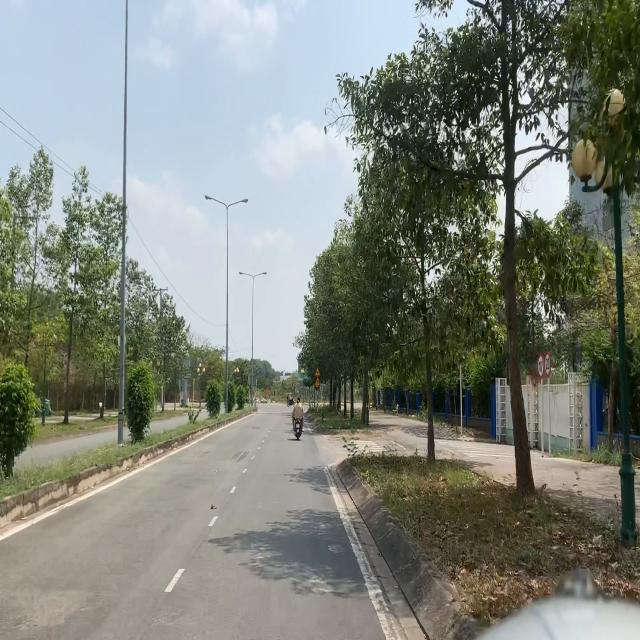Duong giao nhau: (314, 366, 321, 376)
Nguoi di bo cat ngang: (315, 377, 320, 386)
